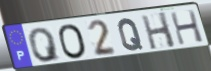2: (86, 19, 118, 59)
H: (139, 10, 178, 51), (169, 8, 206, 46)
O: (56, 23, 89, 60)
Q: (27, 26, 63, 64), (116, 17, 145, 52)
